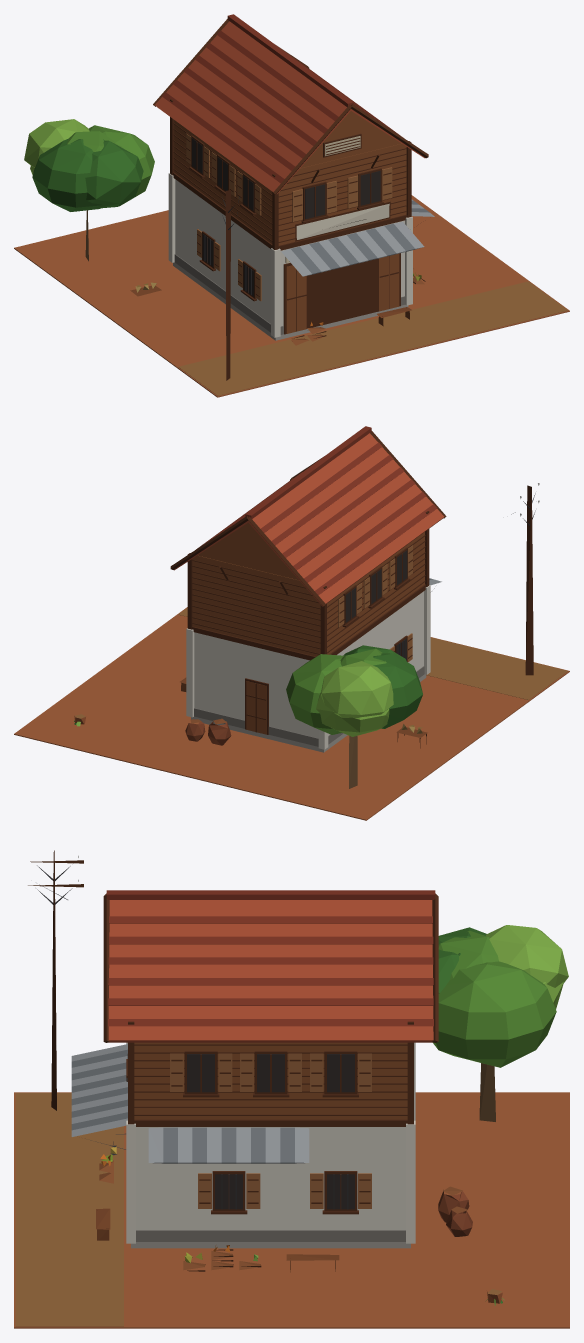
The model's file is shop_1.glb.
3 views of the same model, one above another, from view 1: azimuth 30°, elevation 25°; view 2: azimuth 150°, elevation 25°; view 3: azimuth 270°, elevation 25° (orthographic). The views are drawn at different scales.
Visible parts, largest first — view 1: body, windows; view 2: body, windows; view 3: body, windows.
Boxes of the visible parts, x1,y1,x2,y2 form: body: (14,14,569,397); windows: (192,138,380,296); body: (14,426,569,820); windows: (345,550,407,661); body: (14,850,569,1328); windows: (110,1054,354,1209).
Size of the model in its own units: 16.42 by 10.19 by 15.9.
